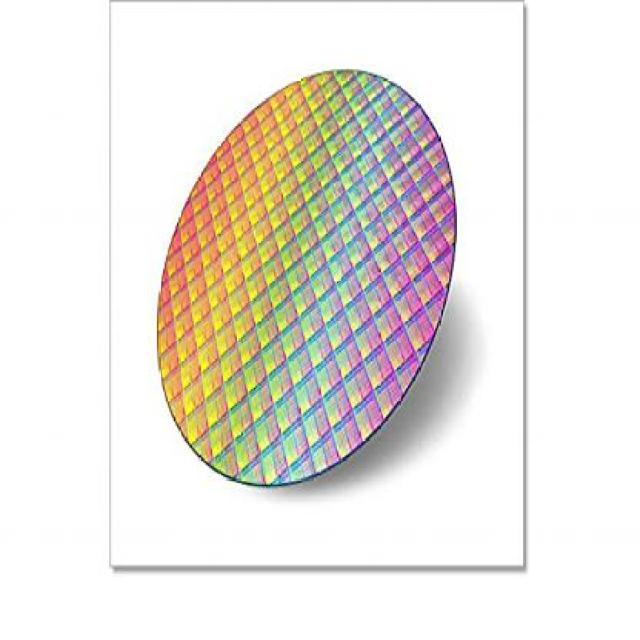Wafer: (155, 68, 458, 491)
